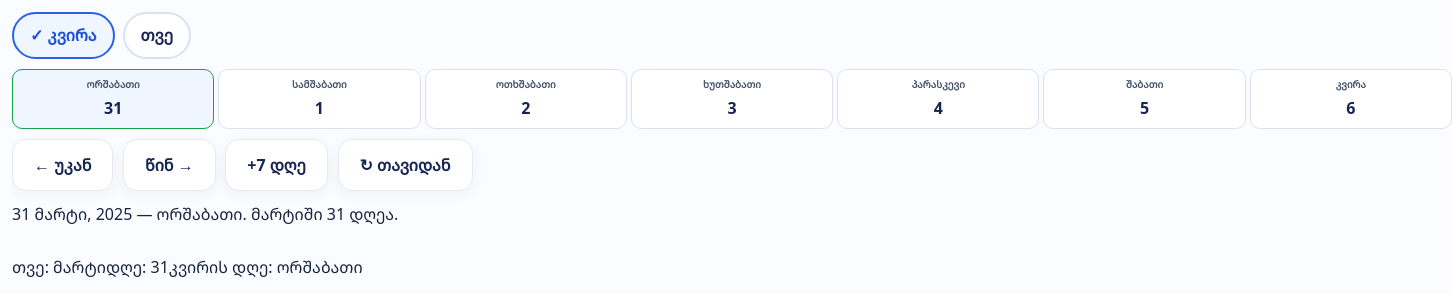
Test: tools: the calendar walker › rolls over the end of a month
Click the button with aria-label "ერთი დღით წინ".
click(169, 165)  # box [123,139,216,191]
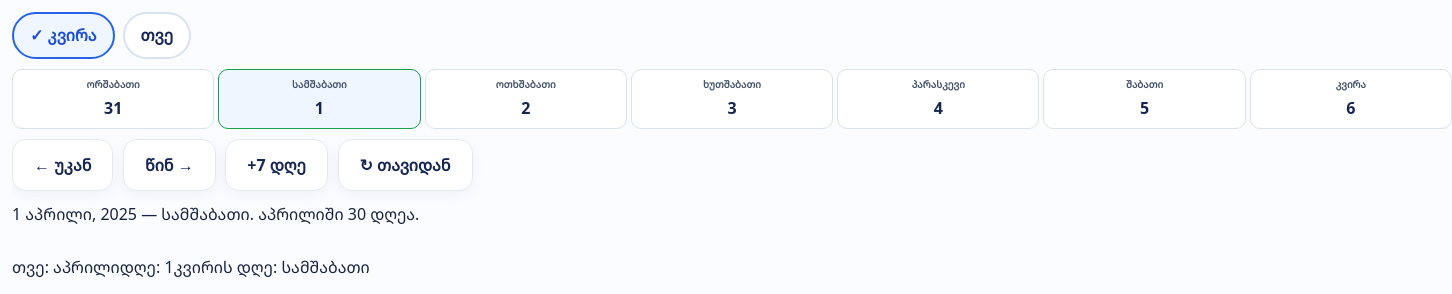
Expected: the message with class "lab-status" shows "1 აპრილი, 2025 — სამშაბათი", [12,203,250,225]
Click the button "↻ თავიდან".
click(405, 165)  # box [338,139,472,191]
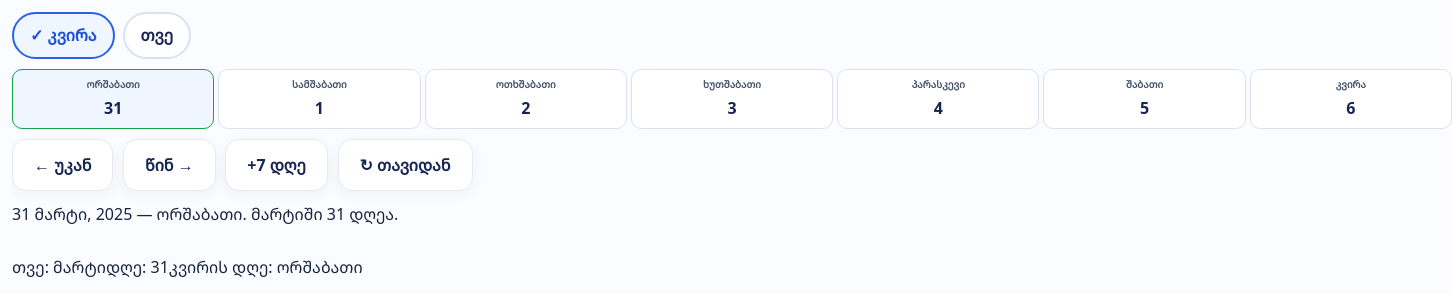
Expected: the message with class "lab-status" shows "31 მარტი, 2025 — ორშაბათი", [12,203,242,225]
